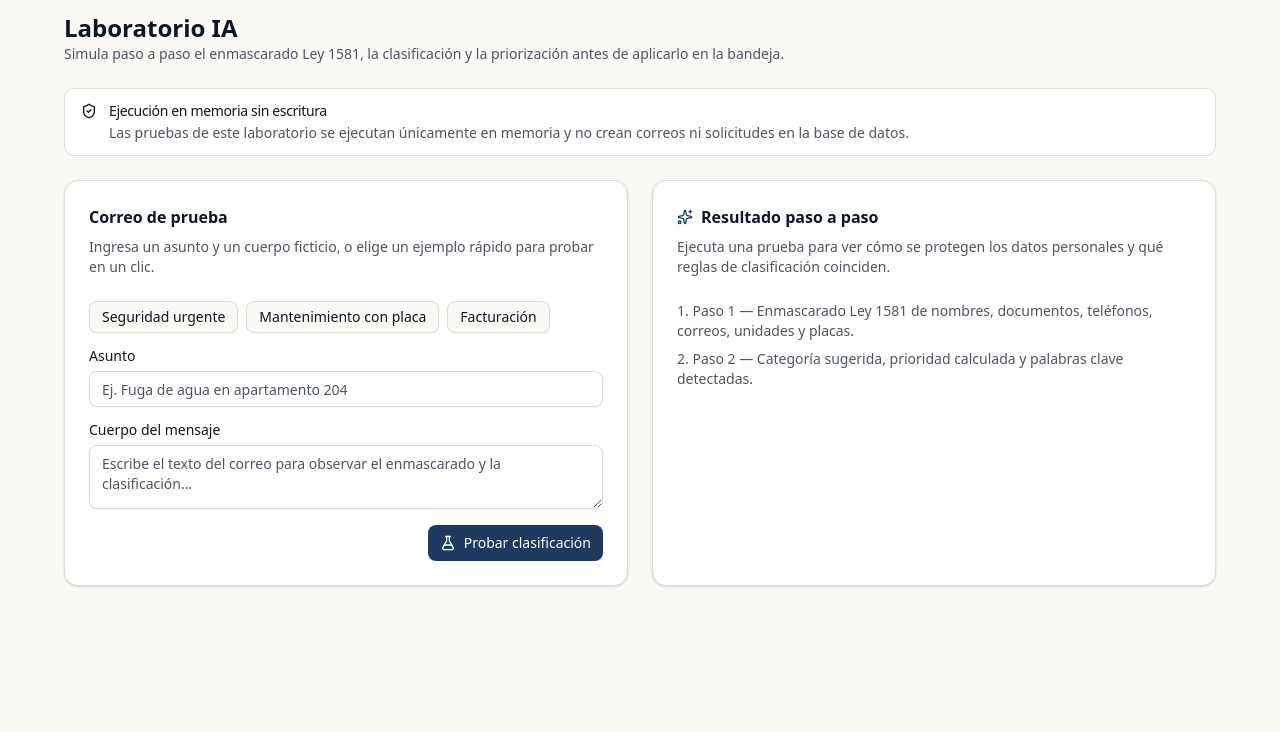
it: LaboratorioIaPage › permite probar un ejemplo rápido con 1 clic
Click the button "Seguridad urgente" at (164, 317), box [89, 301, 238, 333]
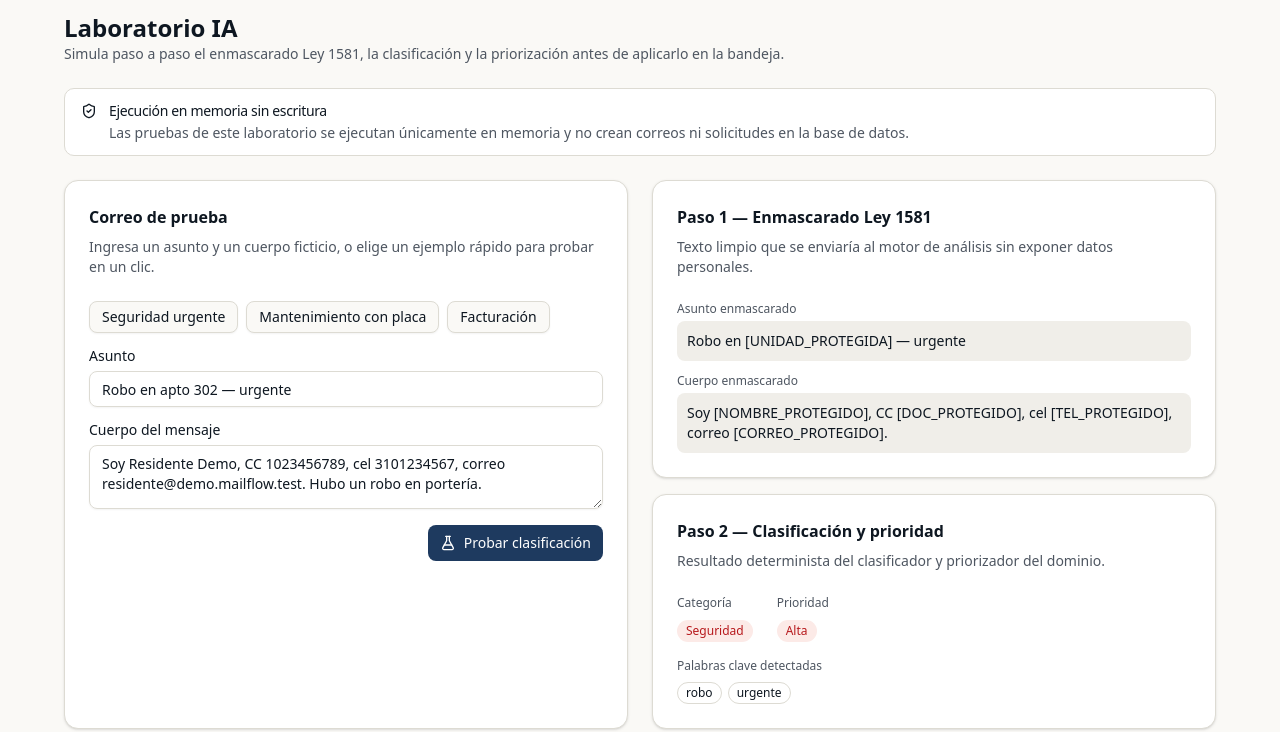
Now the text "Paso 2 — Clasificación y prioridad" is shown, box [677, 520, 944, 542]
